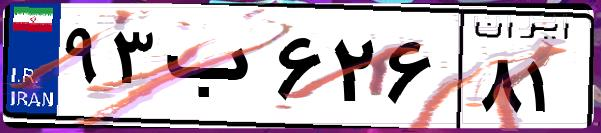1: (525, 38, 570, 115)
2: (330, 28, 385, 110)
3: (110, 28, 158, 98)
6: (270, 28, 330, 110), (385, 28, 445, 110)
8: (475, 38, 525, 113)
9: (57, 26, 110, 100)
ب: (158, 20, 270, 120)
